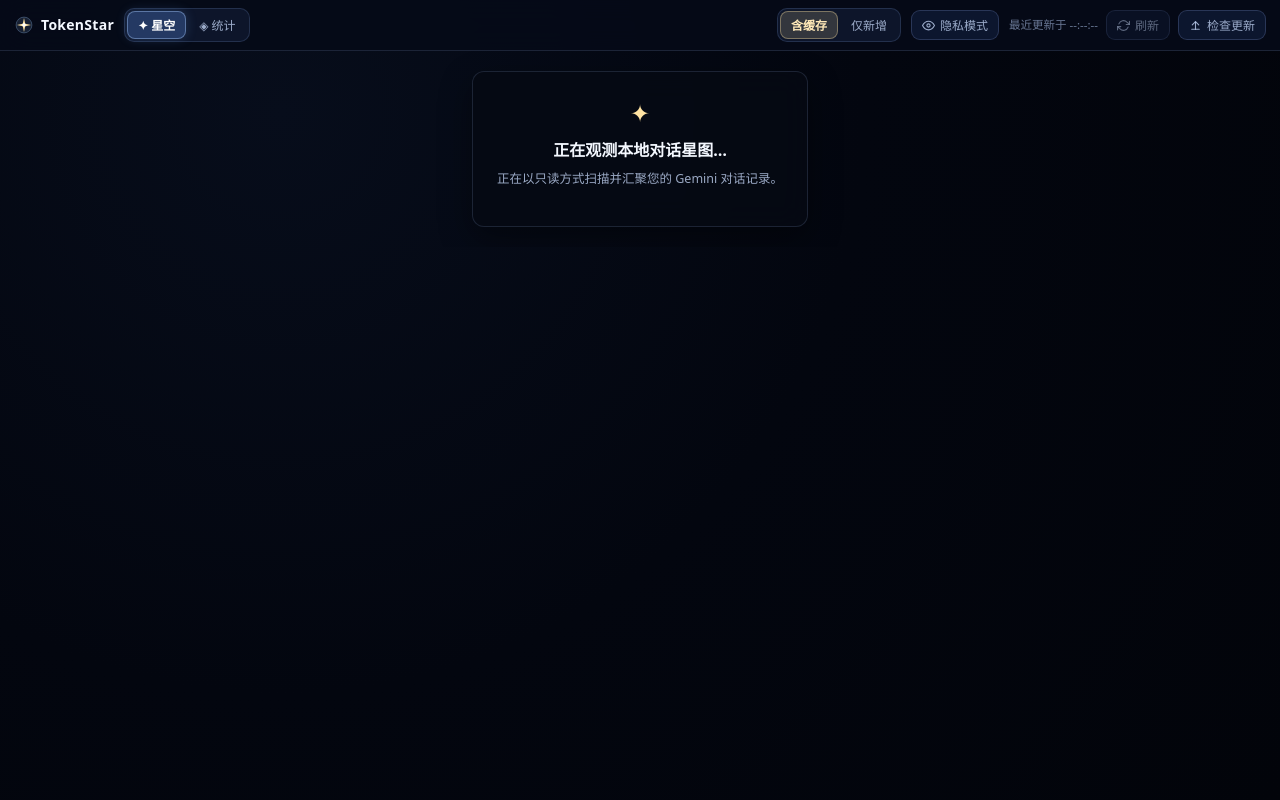
TopBar, StarHeatmap, UsageTables, StatsTab & App Integration › prevents a second createTransport() call when clicking refresh while initial startup load is still pending
The width and height of the screenshot is (1280, 800).
Later steps or results of the test are not shown.
Click the button "刷新": (1138, 25) [1106, 10, 1170, 40]
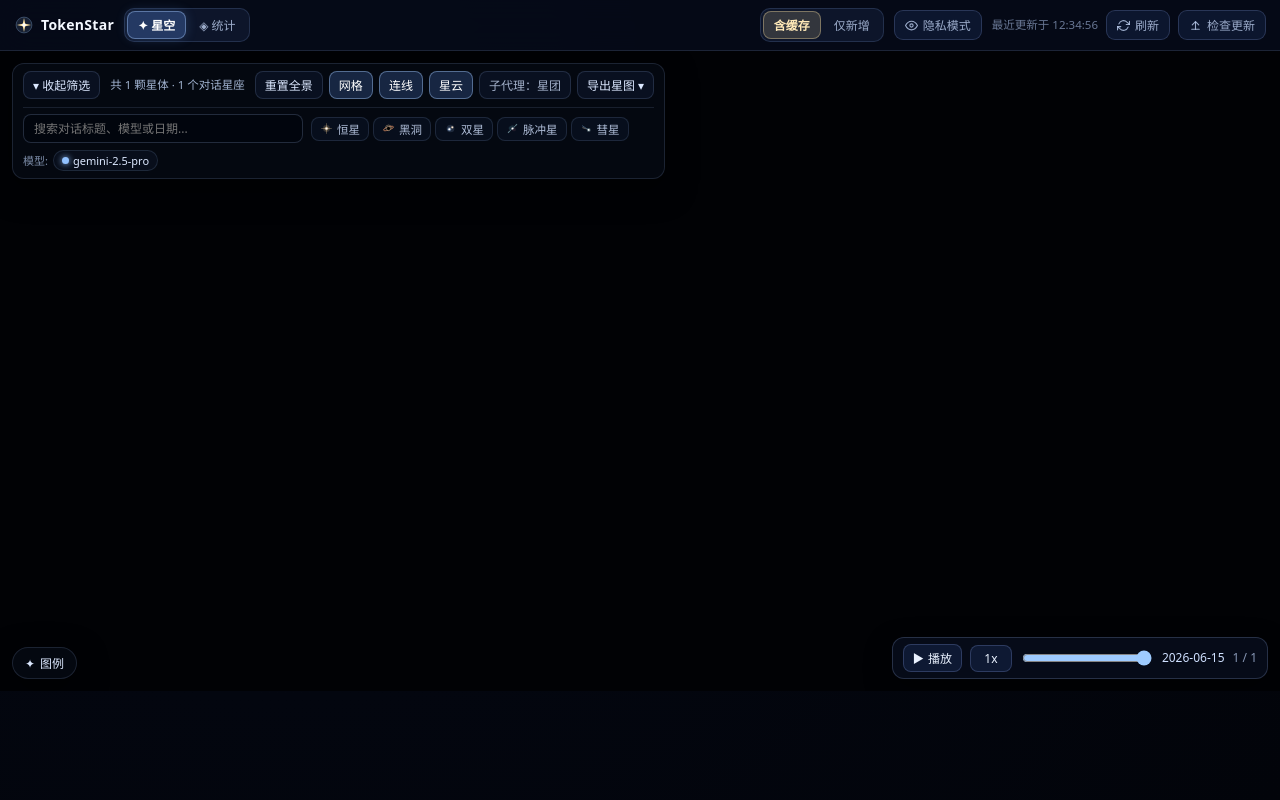
Check: the text "共 1 颗星体" is shown, box [110, 77, 245, 92]
Check: the button "刷新" is enabled, box [1106, 10, 1170, 40]
